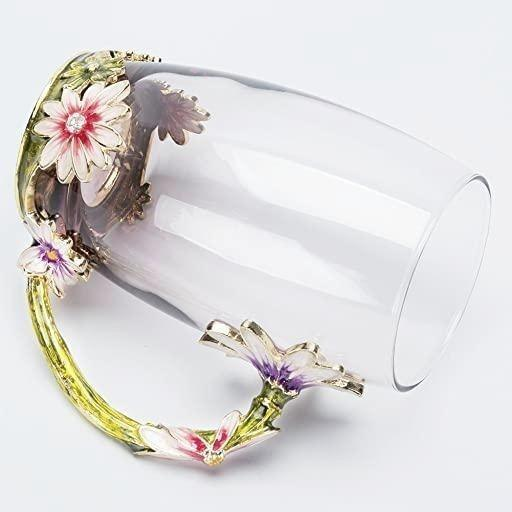glass-mug: (13, 41, 498, 487)
